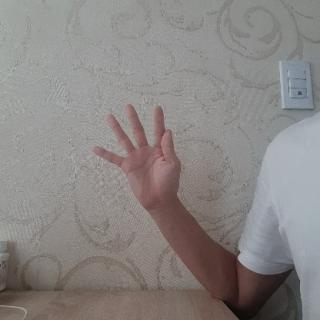SHEEN: (89, 98, 187, 212)
